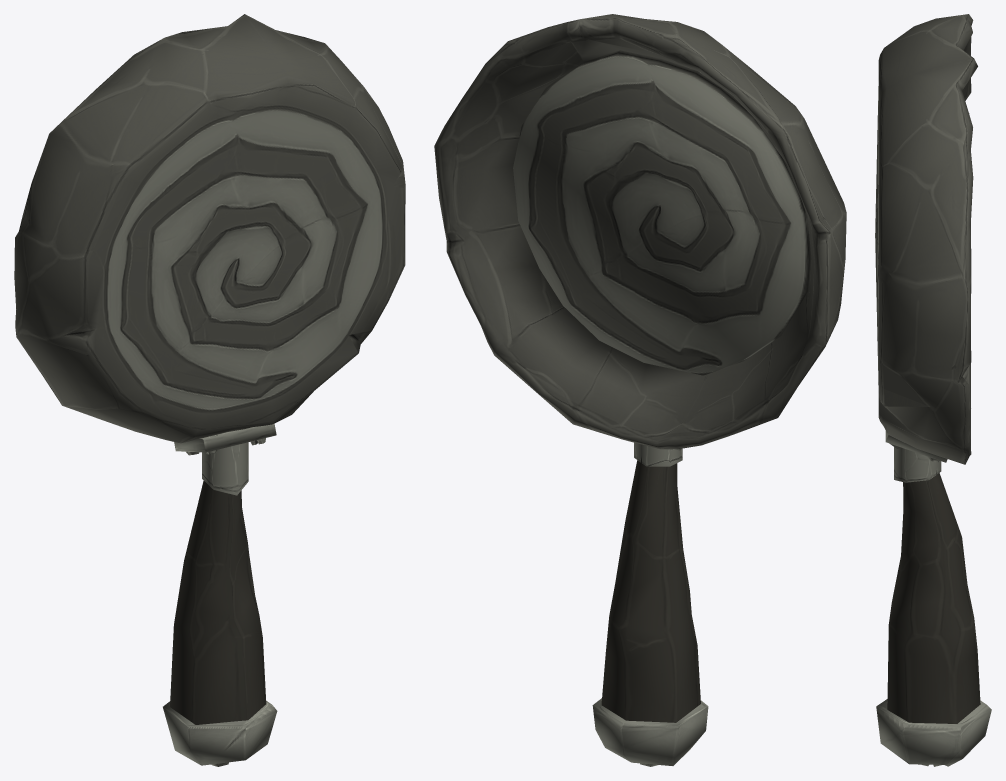
The model's file is pan.glb.
3 views of the same model, side by side, from view 1: azimuth 30°, elevation 25°; view 2: azimuth 150°, elevation 25°; view 3: azimuth 270°, elevation 25° (orthographic). The views are drawn at different scales.
Visible parts, largest first — view 1: node_id37; view 2: node_id37; view 3: node_id37.
Boxes of the visible parts, x1,y1,x2,y2 form: node_id37: (14,14,405,766); node_id37: (434,14,846,766); node_id37: (875,14,991,766).
Size of the model in its own units: 0.2197 by 0.3983 by 0.0579.
Materials: 1 (1 with a texture image).
